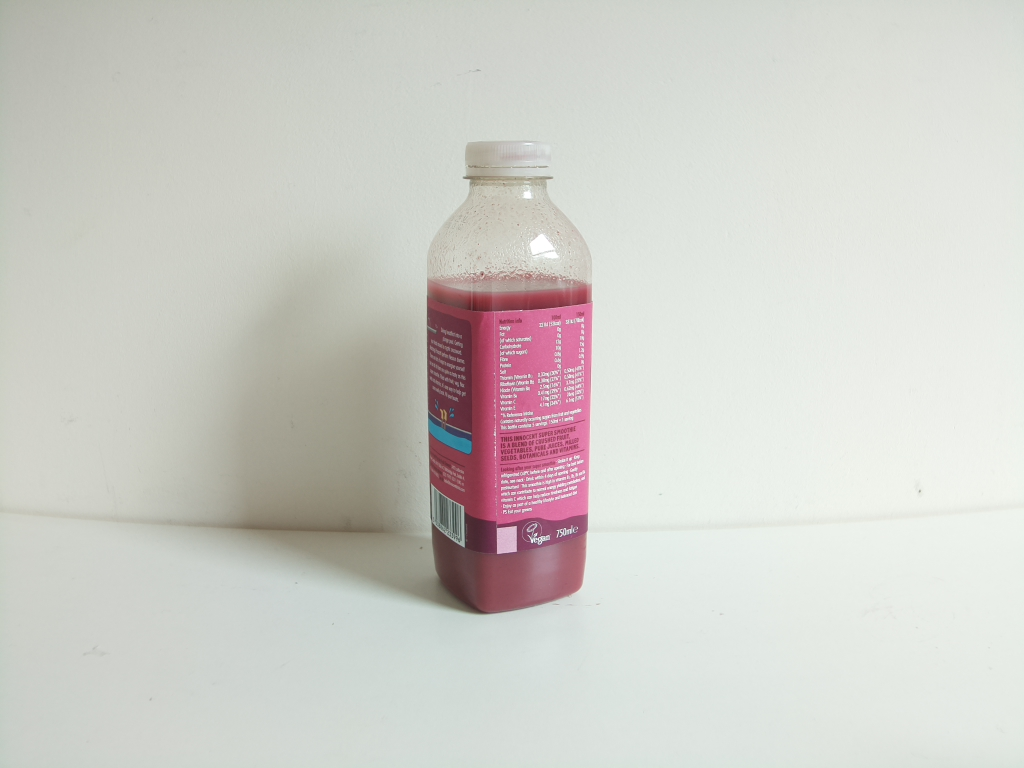juice: (419, 138, 601, 619)
